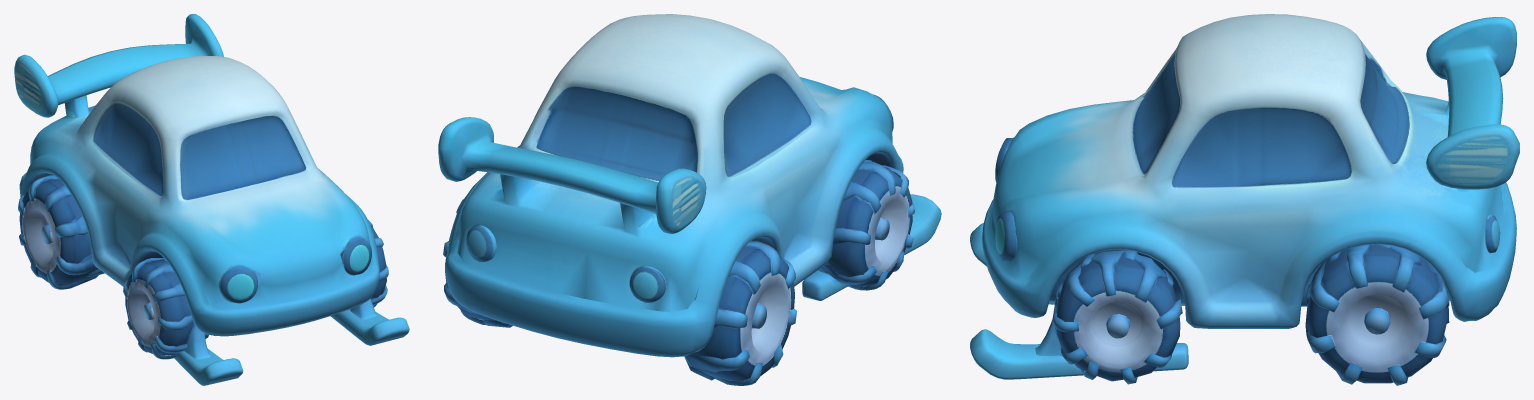
The model's file is car-buzul.glb.
3 renders of one model, left to right at view 1: azimuth 30°, elevation 25°; view 2: azimuth 150°, elevation 25°; view 3: azimuth 270°, elevation 25°, orthographic. The views are drawn at different scales.
Visible parts, largest first — view 1: tripo_node_b45b1d5f-839b-427b-856e-8fe73c22316a; view 2: tripo_node_b45b1d5f-839b-427b-856e-8fe73c22316a; view 3: tripo_node_b45b1d5f-839b-427b-856e-8fe73c22316a.
Part boxes in pixels (x1,y1,x2,y2): tripo_node_b45b1d5f-839b-427b-856e-8fe73c22316a: (14, 14, 409, 385); tripo_node_b45b1d5f-839b-427b-856e-8fe73c22316a: (438, 14, 941, 385); tripo_node_b45b1d5f-839b-427b-856e-8fe73c22316a: (970, 14, 1519, 385).
Bounding box in the file's own units: 0.646 × 0.5688 × 0.9995.
Materials: 1 (1 with a texture image).
